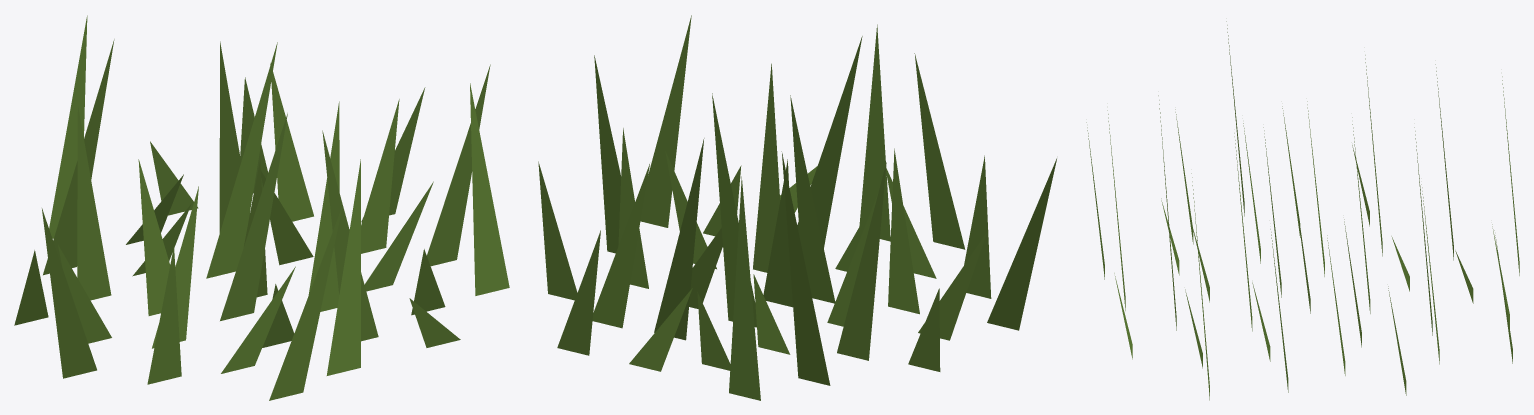
The model's file is Grass_Tall.glb.
The picture shows the model from 3 angles, left to right: view 1: azimuth 30°, elevation 25°; view 2: azimuth 150°, elevation 25°; view 3: azimuth 270°, elevation 25°; orthographic projection. The views are drawn at different scales.
Visible parts, largest first — view 1: Grass_Tall; view 2: Grass_Tall; view 3: Grass_Tall.
Part boxes in pixels (x1,y1,x2,y2): Grass_Tall: [14, 15, 509, 400]; Grass_Tall: [538, 15, 1056, 400]; Grass_Tall: [1086, 21, 1519, 400].
Size of the model in its own units: 1.5 by 0.7 by 1.26.
